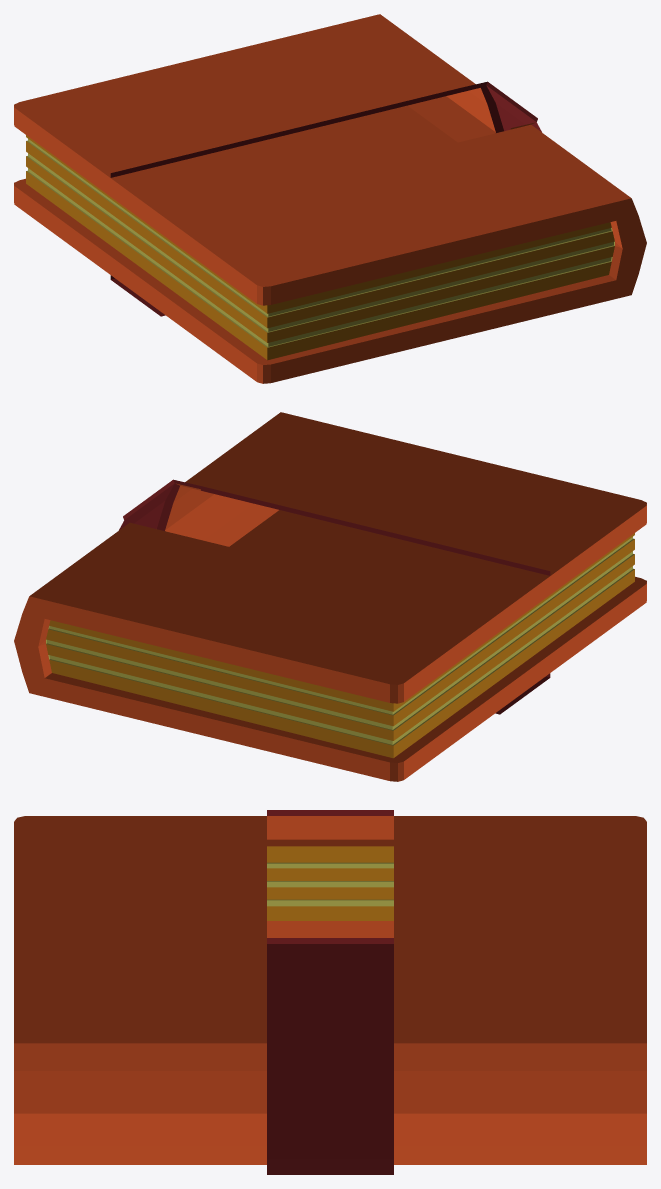
File: Notebook 4.fbx
3 renders of one model, top to bottom at view 1: azimuth 30°, elevation 25°; view 2: azimuth 150°, elevation 25°; view 3: azimuth 270°, elevation 25°, orthographic. The views are drawn at different scales.
Visible parts, largest first — view 1: Node 0; view 2: Node 0; view 3: Node 0.
Boxes of the visible parts, x1,y1,x2,y2 form: Node 0: [14, 14, 646, 383]; Node 0: [14, 412, 646, 781]; Node 0: [14, 810, 646, 1174].
Bounding box in the file's own units: 0.2481 × 0.0579 × 0.224.
